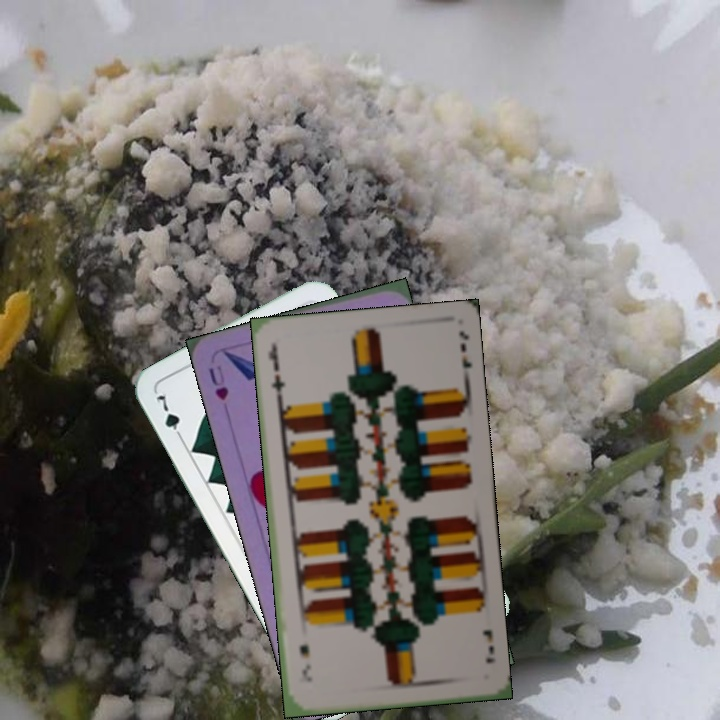E7: (264, 341, 287, 401), (479, 626, 498, 666)
G7: (152, 389, 187, 445)
HU: (204, 361, 231, 403)
